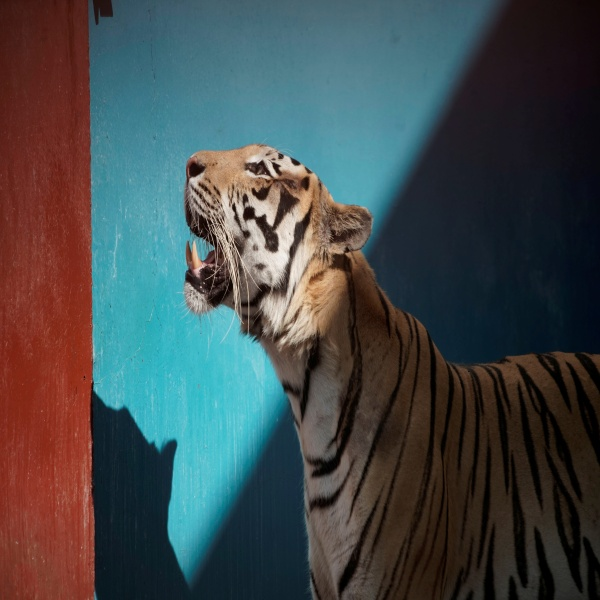Tiger: (178, 132, 600, 595)
